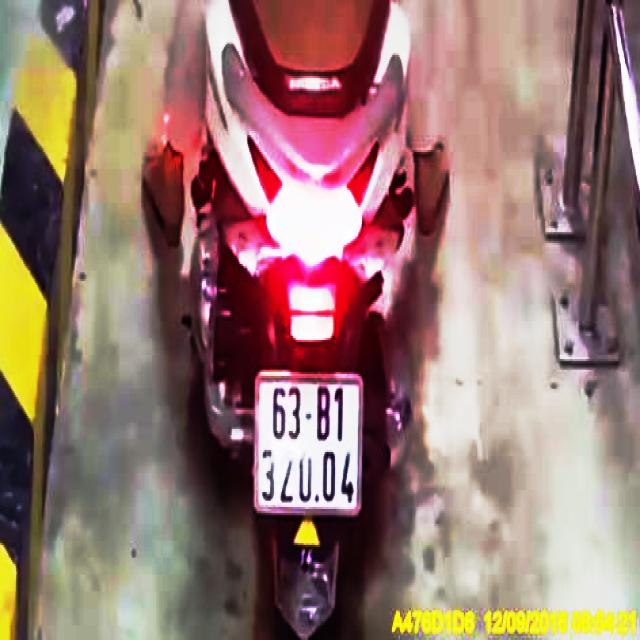license_plate: (259, 377, 361, 511)
